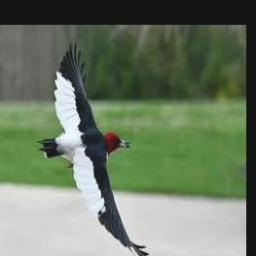Woodpecker: (38, 43, 149, 256)
